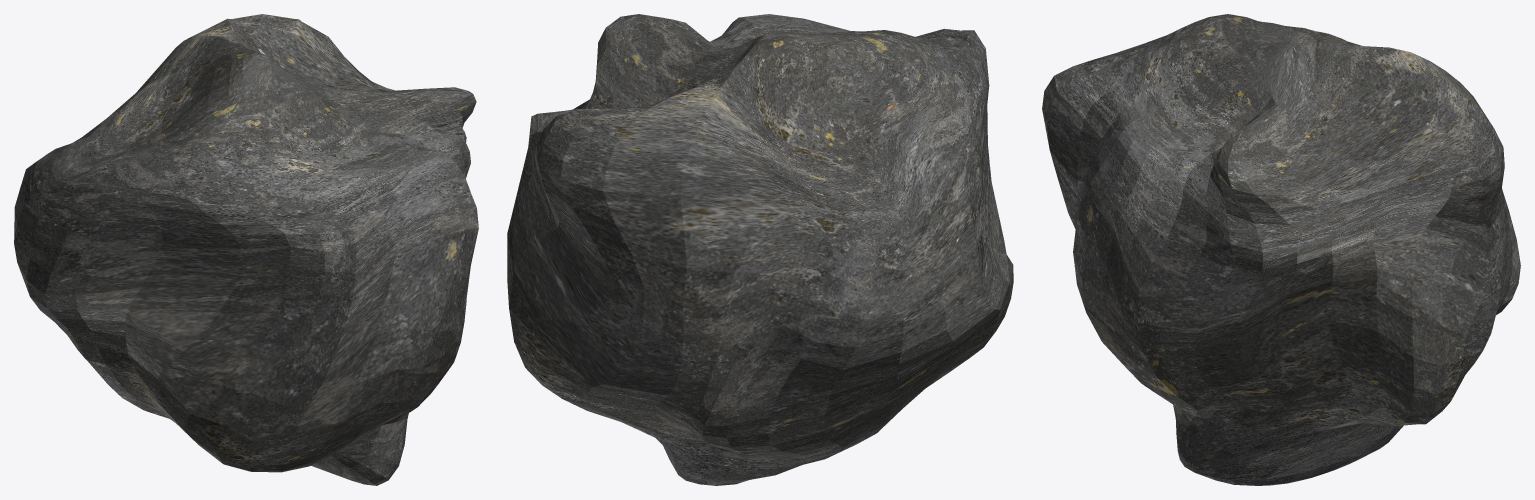
Rendered from BigAsteroid3.fbx.
3 renders of one model, left to right at view 1: azimuth 30°, elevation 25°; view 2: azimuth 150°, elevation 25°; view 3: azimuth 270°, elevation 25°, orthographic. The views are drawn at different scales.
Parts seen in each view (by area): view 1: Sphere; view 2: Sphere; view 3: Sphere.
Boxes of the visible parts, x1,y1,x2,y2 form: Sphere: [14, 14, 478, 485]; Sphere: [507, 14, 1013, 485]; Sphere: [1042, 14, 1520, 485].
Bounding box in the file's own units: 110 × 105 × 110.
Materials: 1 (1 with a texture image).
